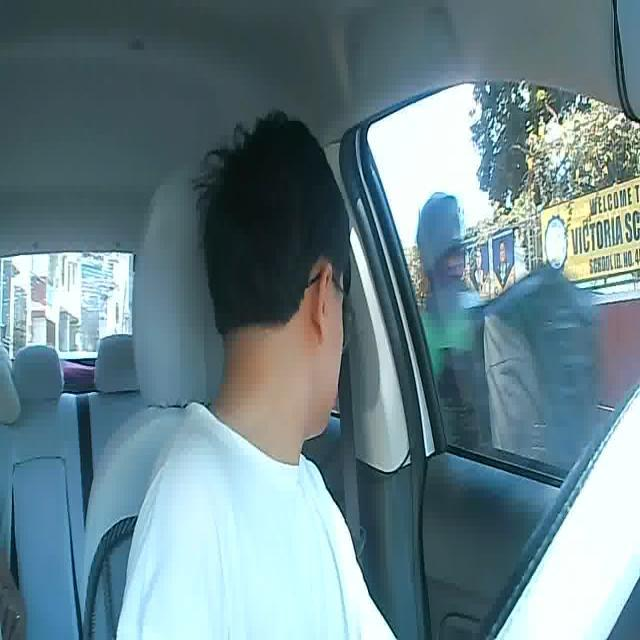Inattentive: (207, 110, 346, 440)
